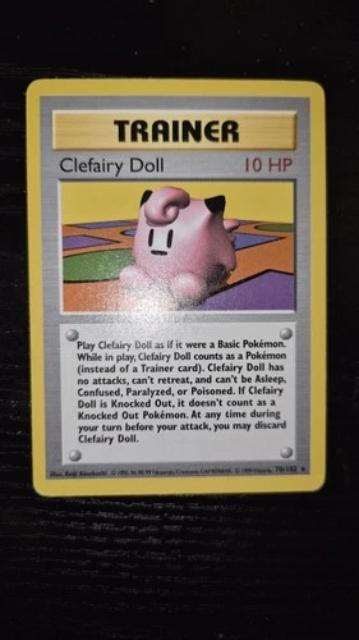Card: (20, 75, 331, 501)
Name: (49, 150, 170, 179)
